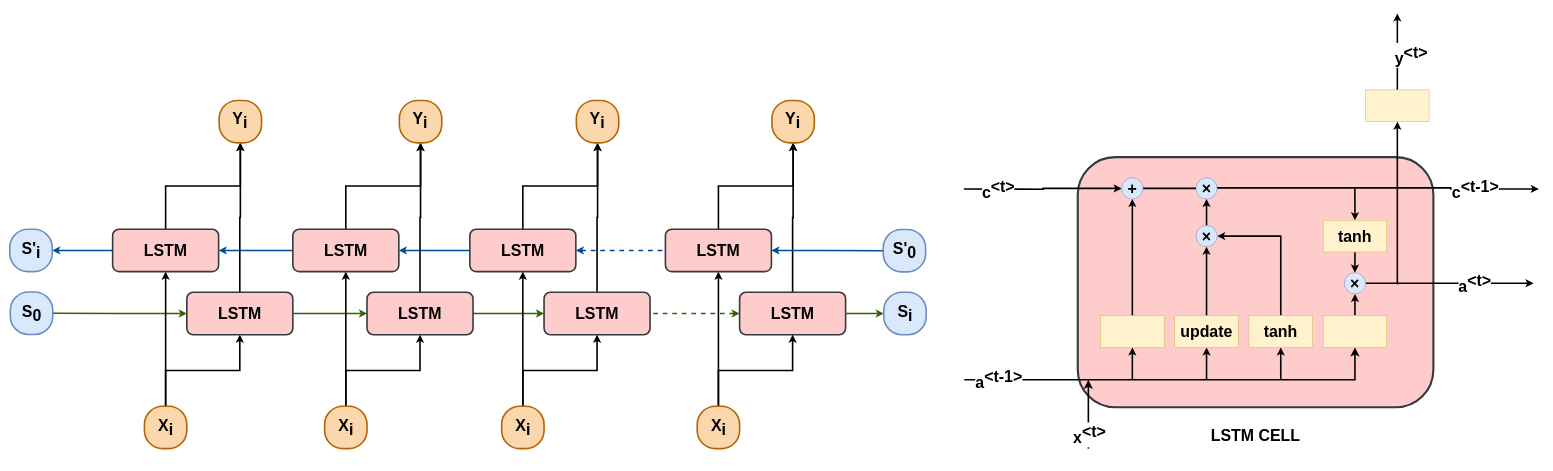
Some shapes in this 1553 by 471 pixel diagram are drawn without their labels. Each missing label, with the centre of its shape:
"forget" goes at point (1132, 331).
"output" goes at point (1355, 331).
"softmax" goes at point (1397, 105).
